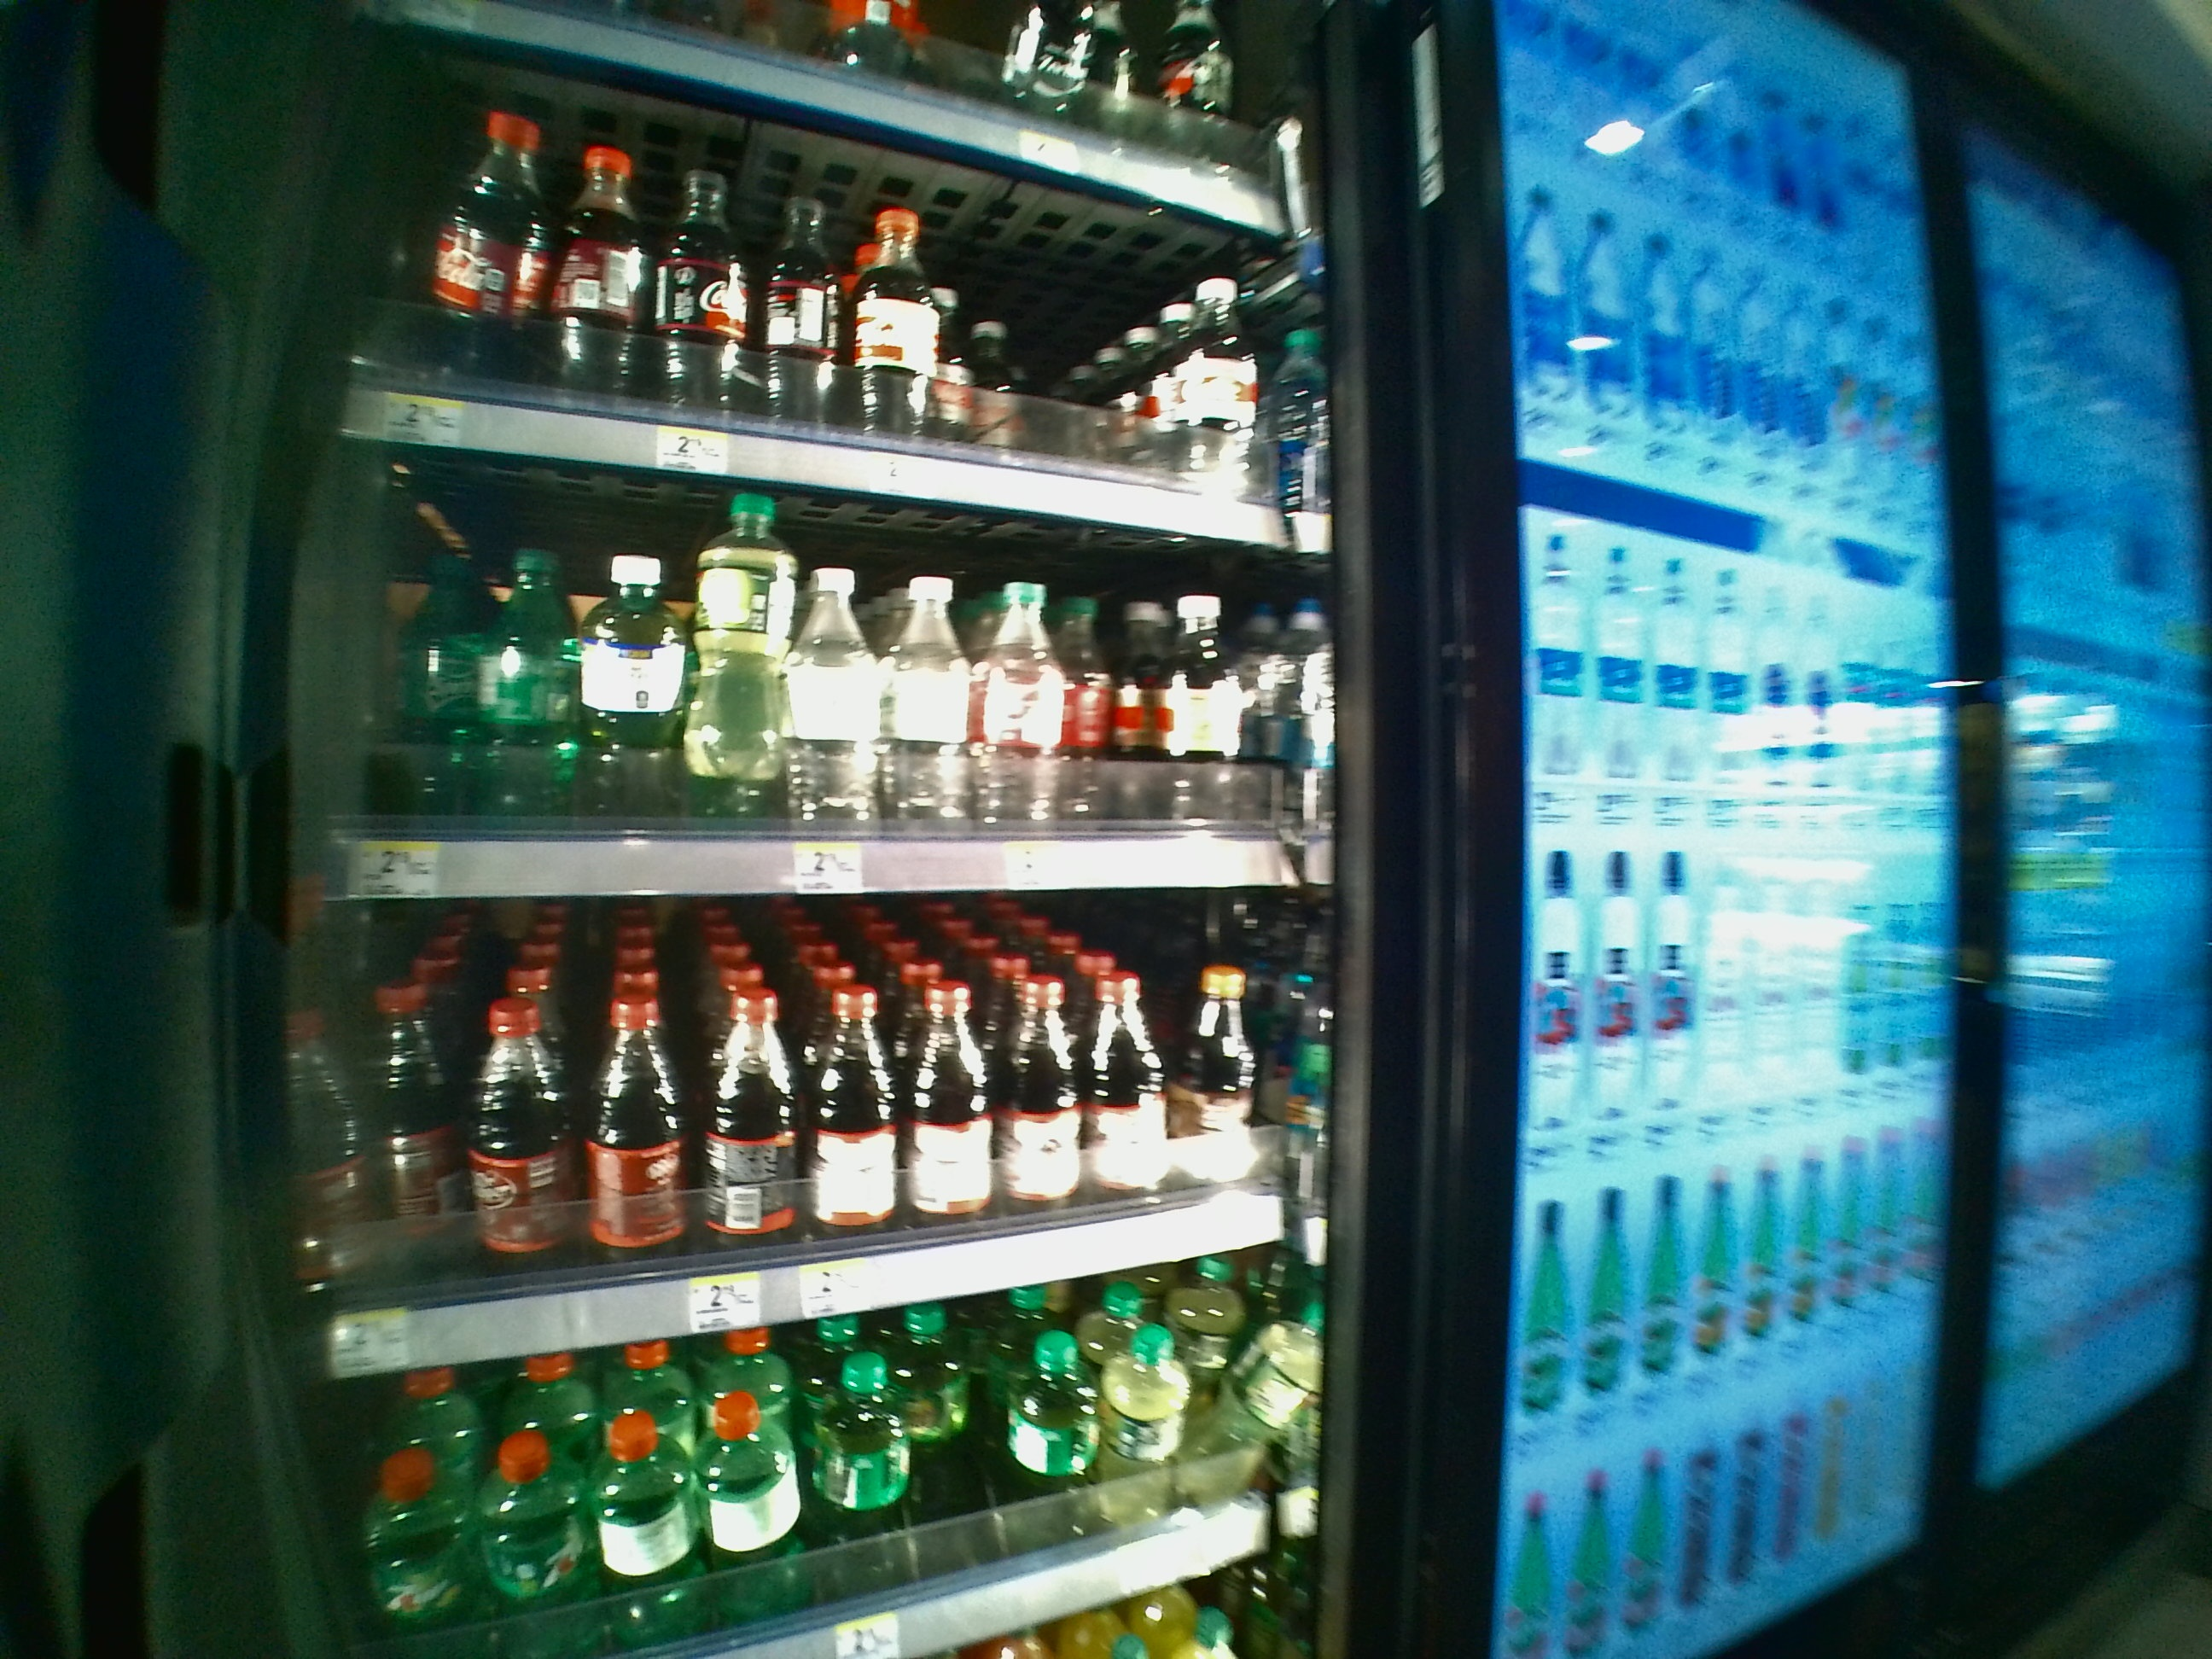shelf: (324, 443, 1322, 890), (319, 906, 1310, 1274), (333, 1290, 1299, 1619)
